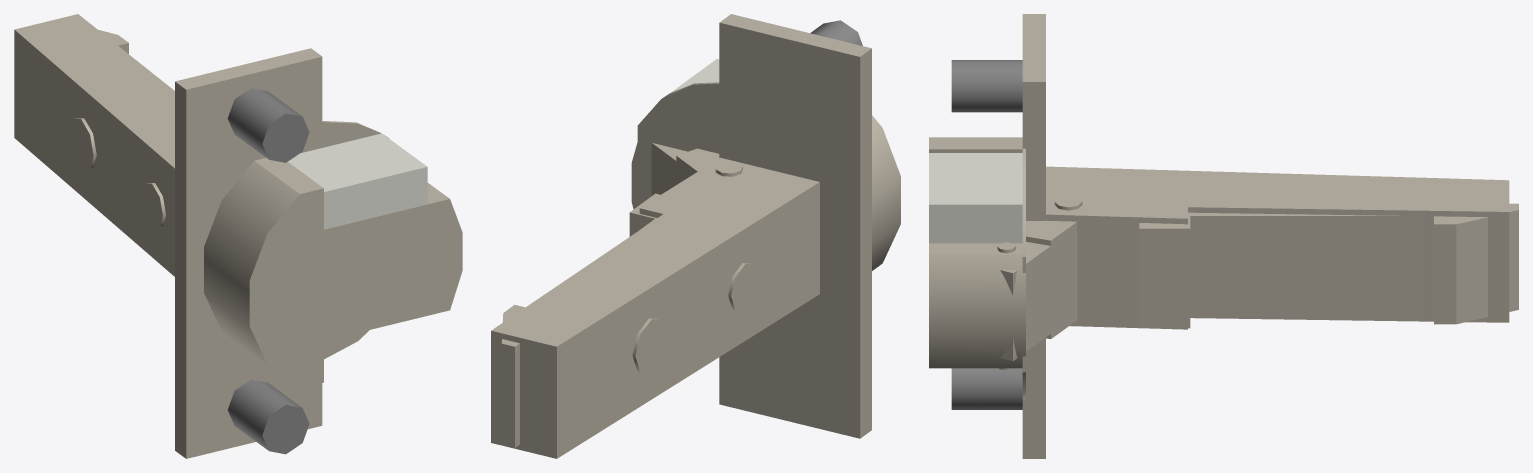
3 renders of one model, left to right at view 1: azimuth 30°, elevation 25°; view 2: azimuth 150°, elevation 25°; view 3: azimuth 270°, elevation 25°, orthographic. The views are drawn at different scales.
Parts seen in each view (by area): view 1: bau2460033743-1, bau2460567541-1; view 2: bau2460033743-1, bau2460567541-1, bau0019426112-1, bau2460027380-1; view 3: bau2460033743-1, bau0019426112-1, bau2460567541-1, bau2460027380-1.
Boxes of the visible parts, bbox=[...] form: bau2460033743-1: bbox=[175, 48, 462, 458]; bau2460567541-1: bbox=[14, 14, 174, 276]; bau2460033743-1: bbox=[631, 14, 900, 438]; bau2460567541-1: bbox=[491, 157, 819, 458]; bau0019426112-1: bbox=[501, 193, 660, 447]; bau2460027380-1: bbox=[651, 143, 719, 195]; bau2460033743-1: bbox=[929, 14, 1045, 458]; bau0019426112-1: bbox=[1139, 203, 1518, 328]; bau2460567541-1: bbox=[1046, 166, 1509, 329]; bau2460027380-1: bbox=[1000, 220, 1077, 360].
Size of the model in its own units: 37.24 by 57 by 80.8.
